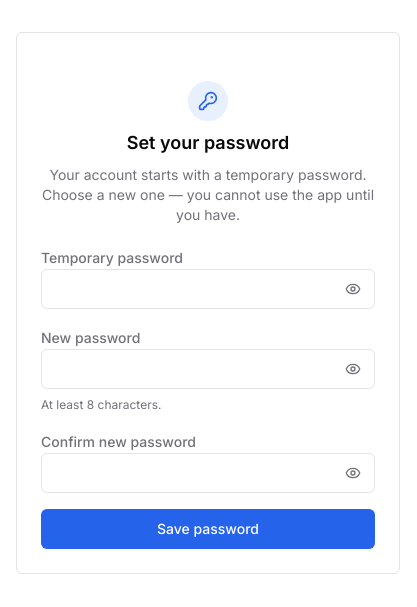
ChangePasswordPage › shows an error when passwords do not match
Type "tempPass123" into the password field labelled "Temporary password" at {"x": 208, "y": 289}, box [41,269,375,309]
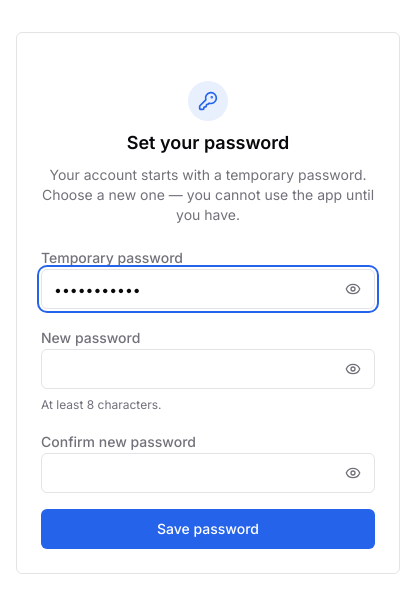
Type "newPassword456" into the password field labelled "New password" at {"x": 208, "y": 369}, box [41,349,375,389]
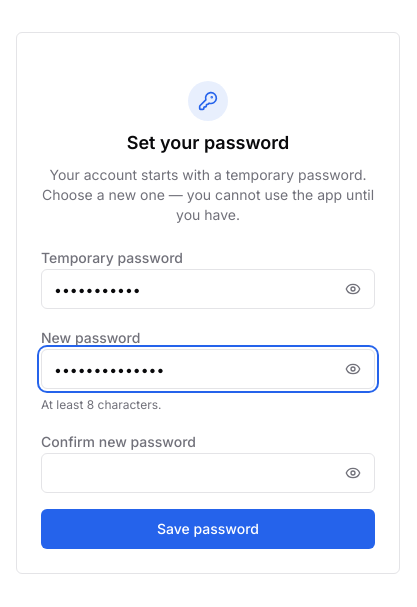
Type "mismatch789" into the password field labelled "Confirm new password" at {"x": 208, "y": 473}, box [41,453,375,493]
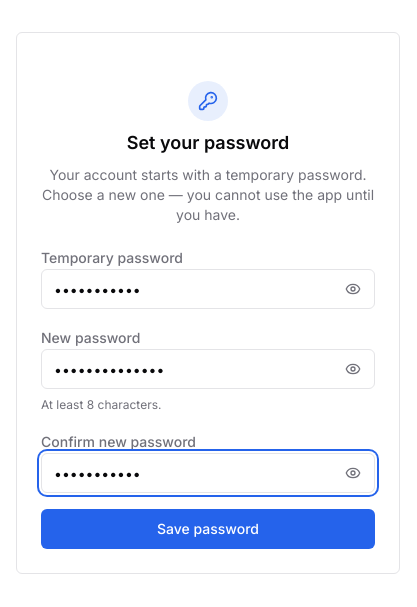
Click the button "Save password" at {"x": 208, "y": 529}, box [41,509,375,549]
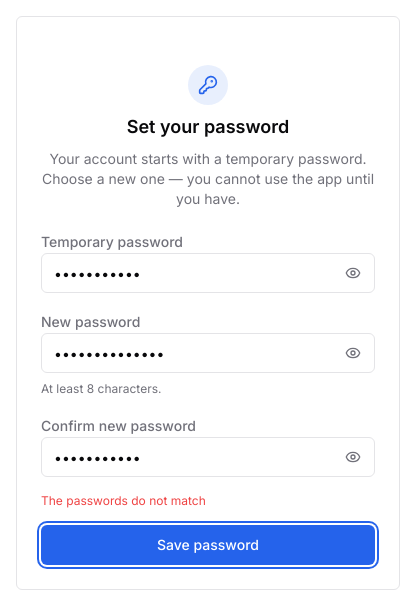
Check: the text "The passwords do not match" is shown, box [41,493,206,508]
